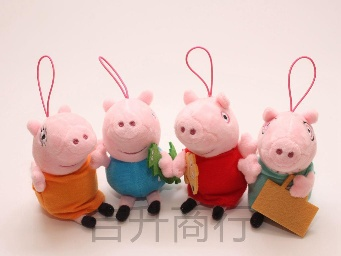Peppa: (171, 91, 255, 220)
